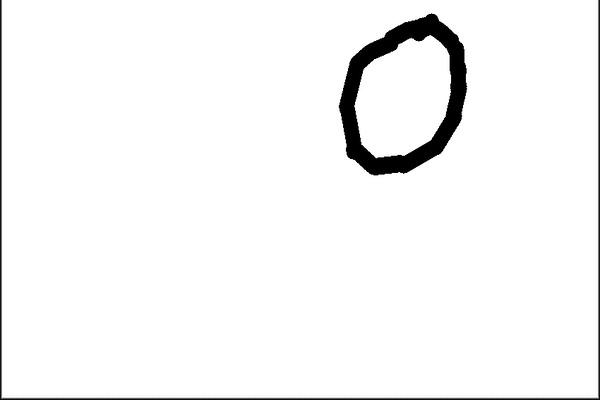O: (332, 9, 469, 178)
